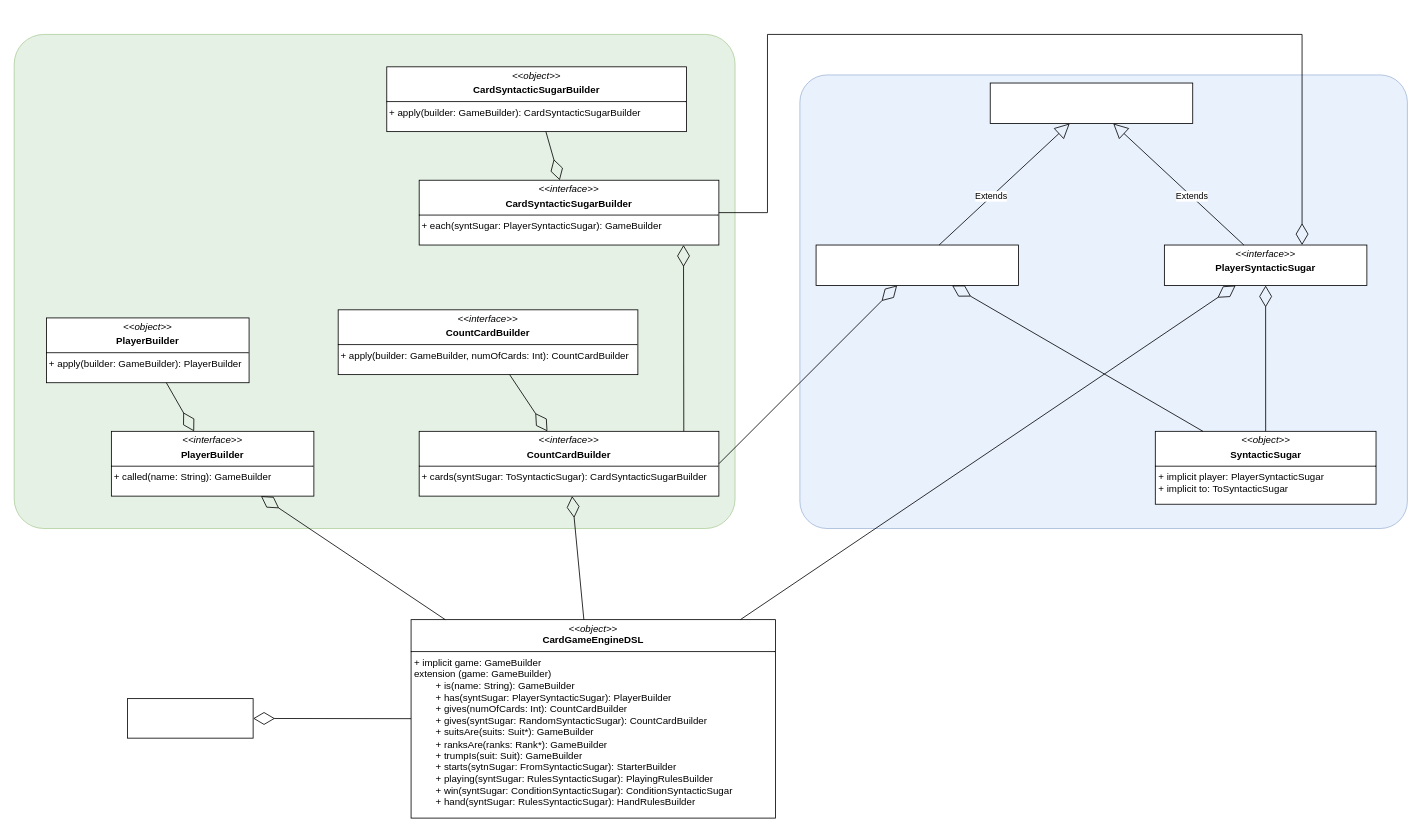
Image size: 1422x833. Some labels were removed from this diagram. Here are the shapes that lost their labels. From the top down, the box of each, then its label:
(989, 82, 1193, 124): <<interface>> SyntacticSugar
(13, 34, 735, 529): SyntacticBuilders
(815, 244, 1019, 286): <<interface>> ToSyntacticSugar
(799, 74, 1407, 529): SyntacticSugars
(127, 698, 253, 738): <<interface>> GameBuilde r
